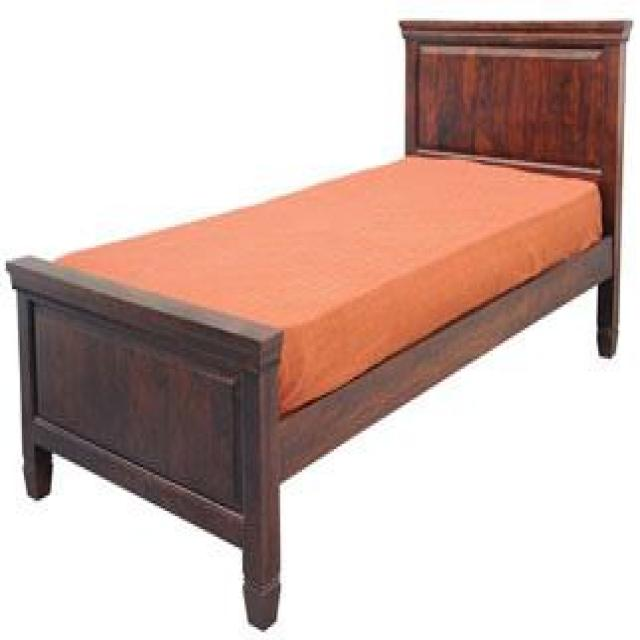bed: (4, 16, 632, 630)
